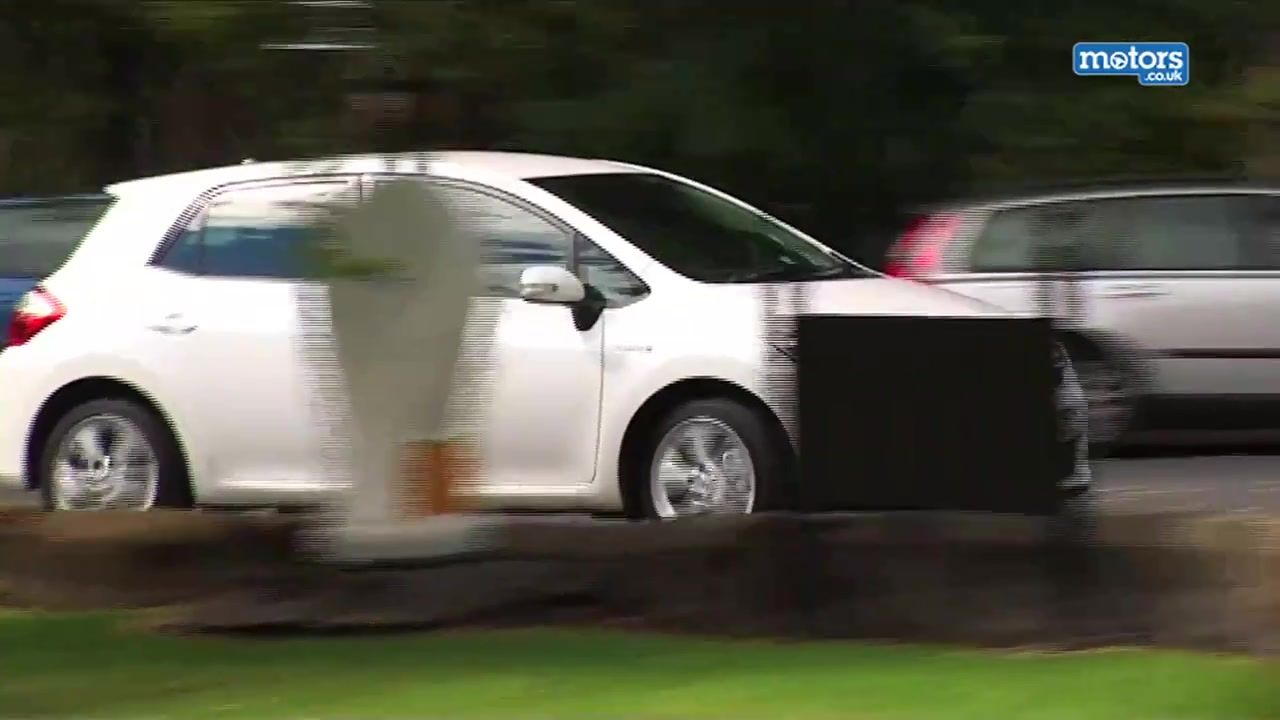car: (2, 150, 1091, 516), (888, 192, 1280, 465)
